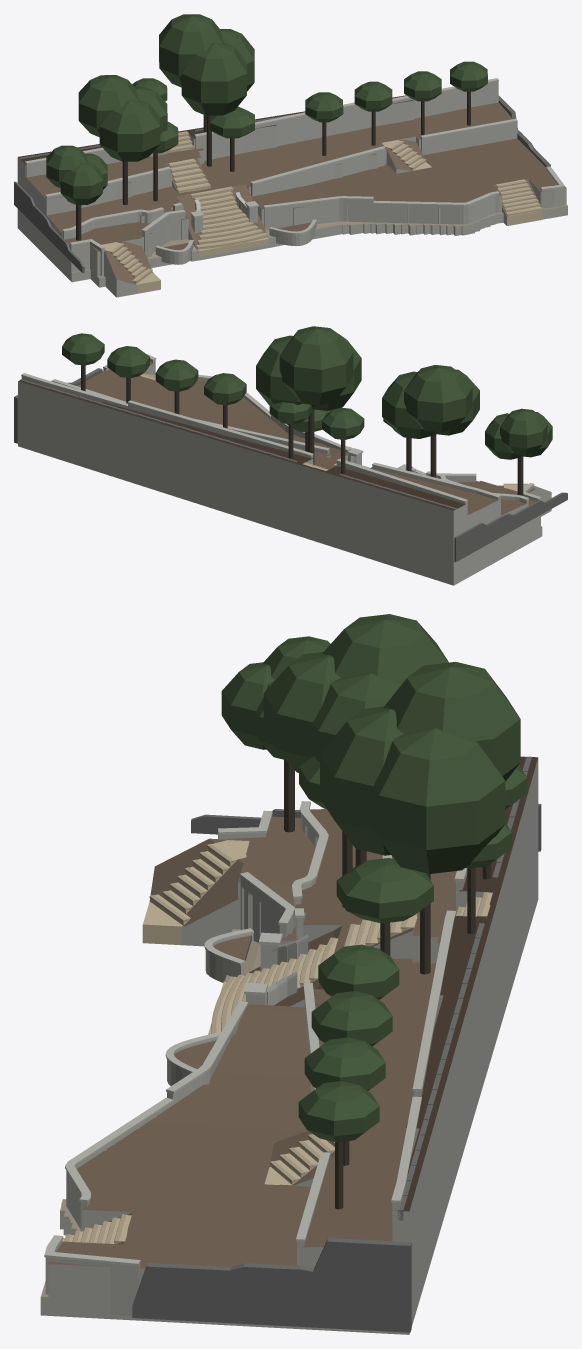
File: reconstruction-6d9eda71e292.glb
3 views of the same model, one above another, from view 1: azimuth 30°, elevation 25°; view 2: azimuth 150°, elevation 25°; view 3: azimuth 270°, elevation 25° (orthographic). The views are drawn at different scales.
Visible parts, largest first — view 1: ground-terraces, planting-tree-03, wall-wa, planting-tree-01, wall-we, wall-wb, flight-m1, planting-tree-07, flight-w1, nosing-m1, coping-wa, slot-filler-west (+20 smaller); view 2: ground-terraces, planting-tree-03, planting-tree-01, planting-tree-07, slot-filler-west, planting-tree-06, coping-we, planting-tree-09, planting-tree-11, planting-tree-10, planting-tree-08, wall-we (+12 smaller); view 3: ground-terraces, planting-tree-03, slot-filler-east, planting-tree-01, flight-w1, wall-wa, planting-tree-07, planting-tree-04, coping-wa, planting-tree-11, planting-tree-10, planting-tree-08 (+15 smaller).
Part boxes in pixels (x1,y1,x2,y2): ground-terraces: [17, 95, 567, 287]; planting-tree-03: [159, 14, 254, 166]; wall-wa: [70, 169, 564, 276]; planting-tree-01: [78, 75, 167, 204]; wall-we: [194, 81, 498, 160]; wall-wb: [62, 121, 517, 239]; flight-m1: [176, 184, 269, 257]; planting-tree-07: [46, 145, 107, 240]; flight-w1: [102, 240, 160, 297]; nosing-m1: [190, 187, 267, 247]; coping-wa: [70, 166, 564, 249]; slot-filler-west: [14, 181, 84, 273]; ground-terraces: [18, 361, 542, 585]; planting-tree-03: [256, 326, 361, 464]; planting-tree-01: [382, 365, 479, 477]; planting-tree-07: [485, 408, 552, 495]; slot-filler-west: [454, 492, 567, 561]; planting-tree-06: [322, 407, 364, 474]; coping-we: [21, 373, 313, 456]; planting-tree-09: [155, 359, 198, 414]; planting-tree-11: [62, 333, 104, 391]; planting-tree-10: [107, 346, 149, 403]; planting-tree-08: [204, 373, 246, 428]; wall-we: [21, 376, 313, 458]; ground-terraces: [40, 756, 538, 1334]; planting-tree-03: [320, 662, 520, 974]; slot-filler-east: [132, 1238, 411, 1332]; planting-tree-01: [263, 614, 448, 865]; flight-w1: [142, 838, 249, 946]; wall-wa: [45, 832, 293, 1316]; planting-tree-07: [221, 636, 330, 832]; planting-tree-04: [336, 858, 433, 955]; coping-wa: [44, 810, 294, 1265]; planting-tree-11: [298, 1081, 379, 1209]; planting-tree-10: [304, 1037, 385, 1165]; planting-tree-08: [318, 944, 399, 999].
Size of the model in its own units: 32.12 by 12.26 by 14.57.
